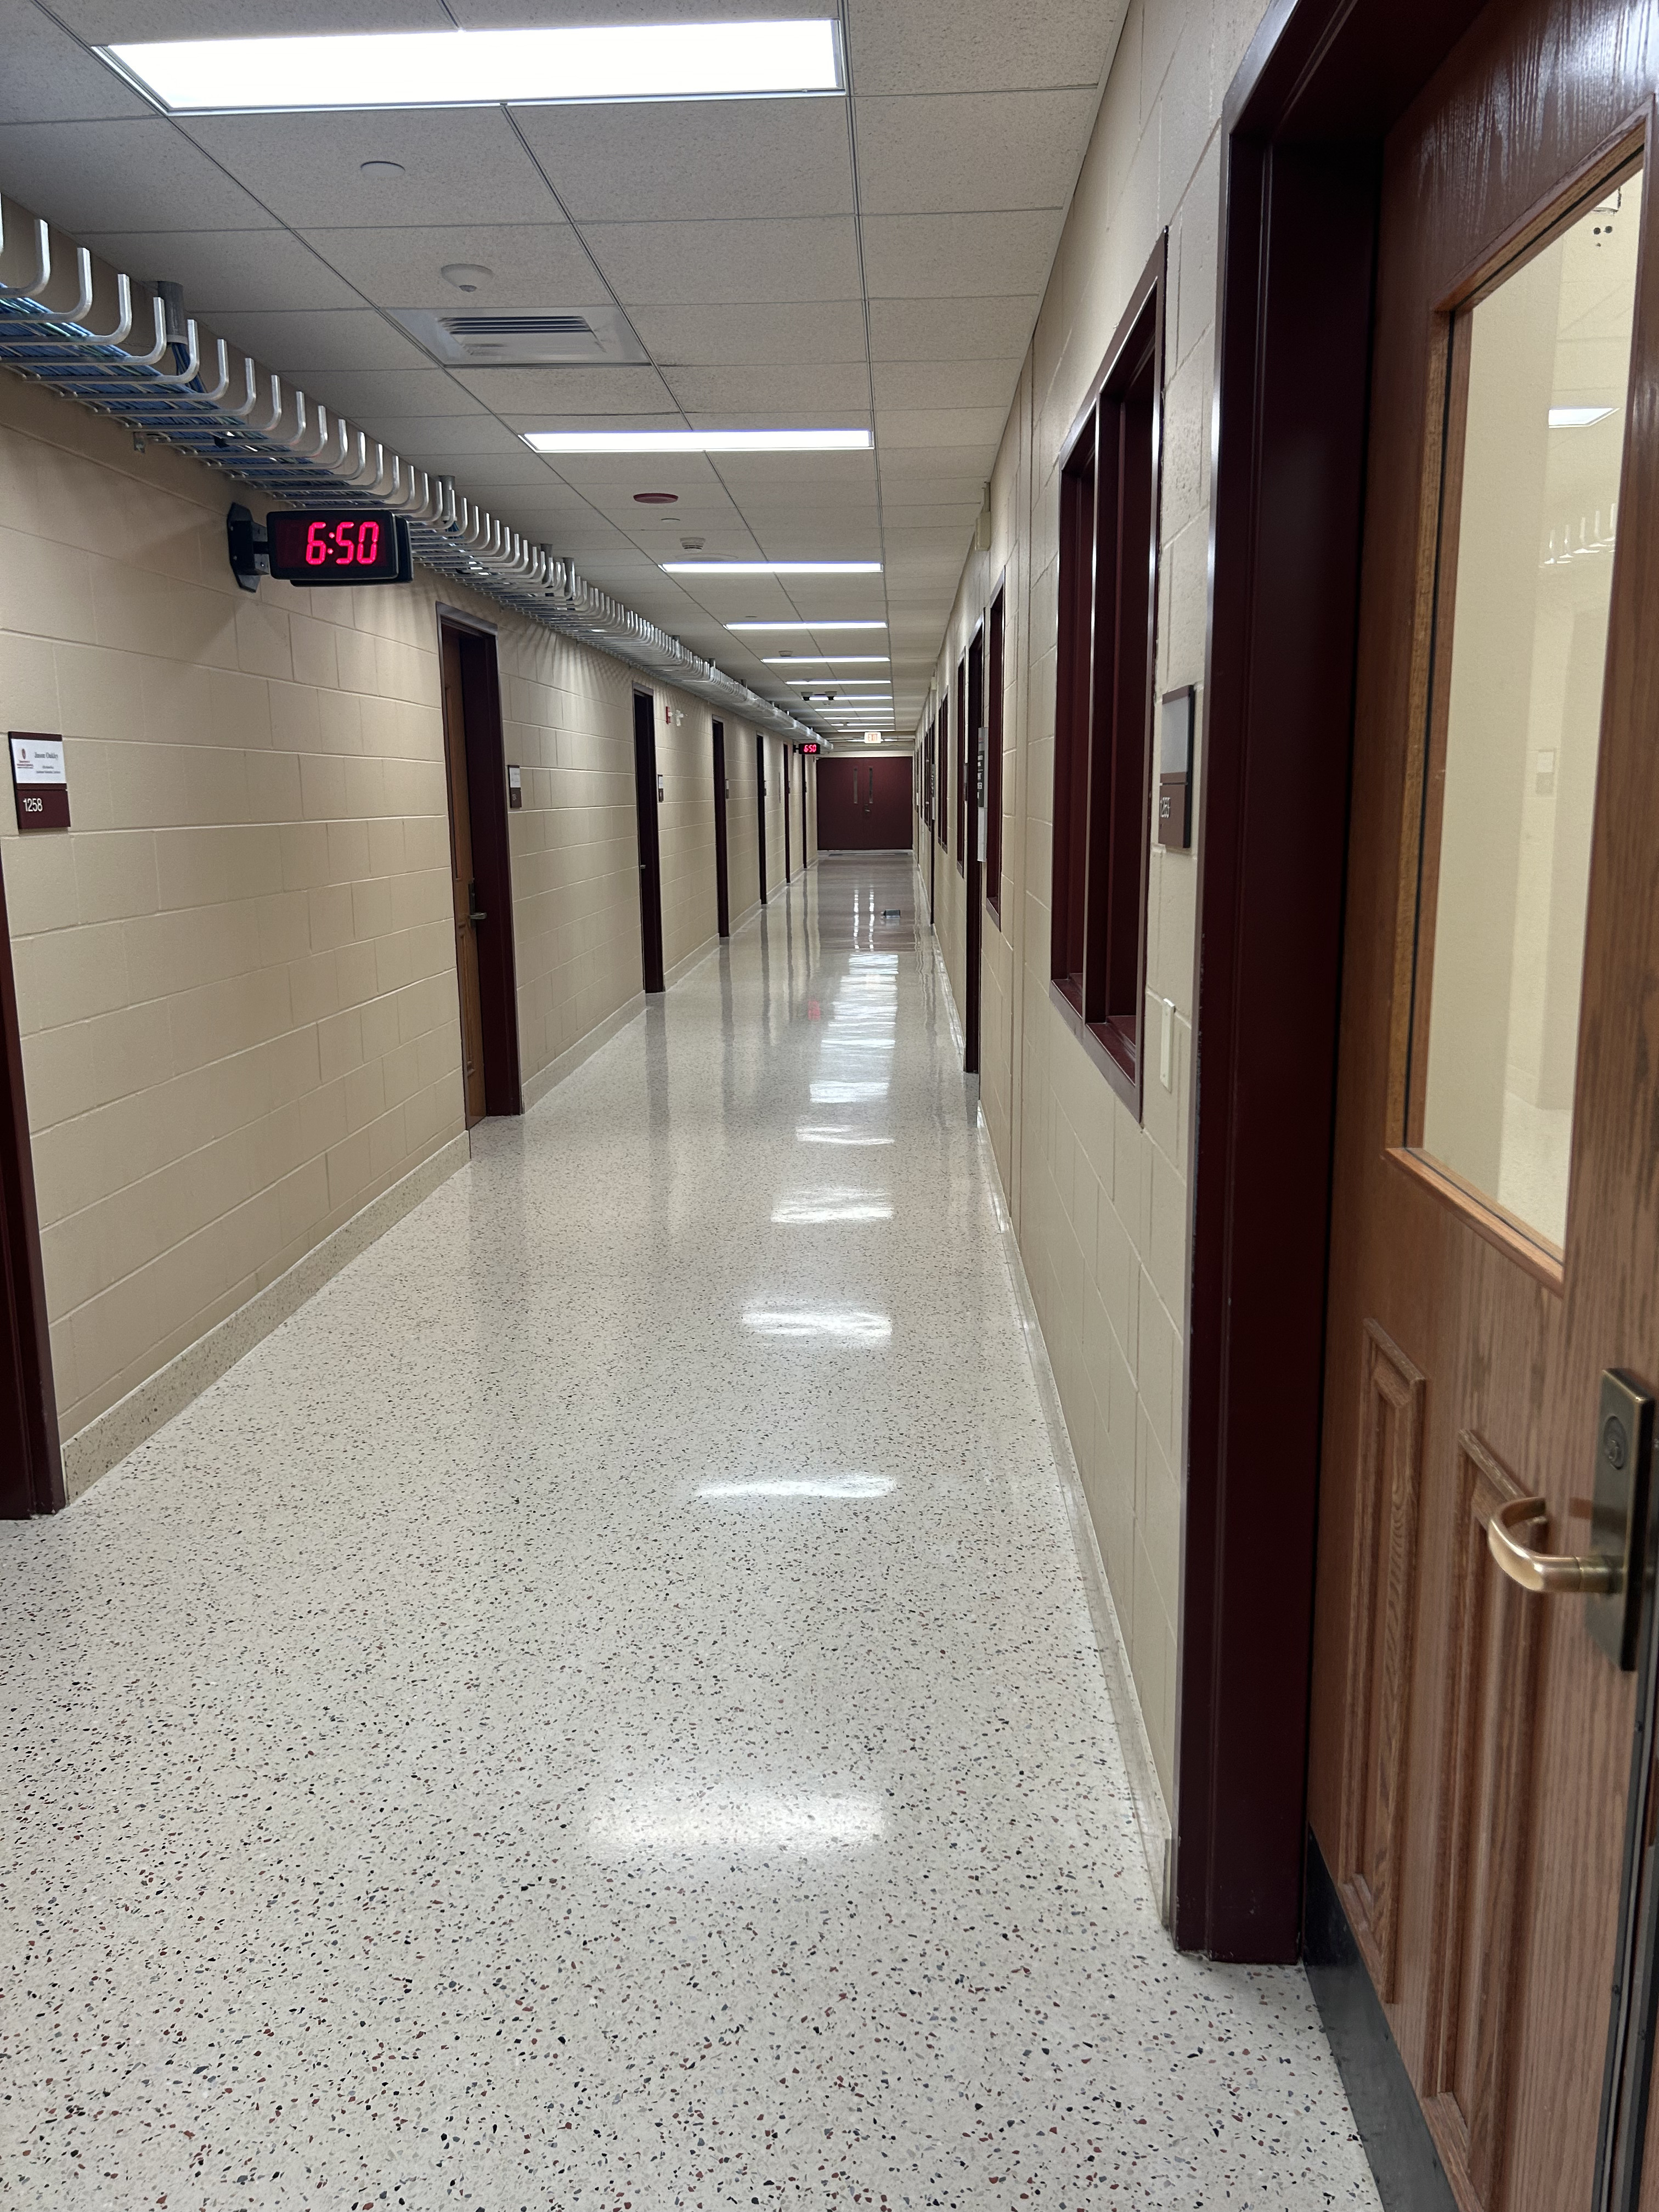bottle: (878, 890, 904, 932)
